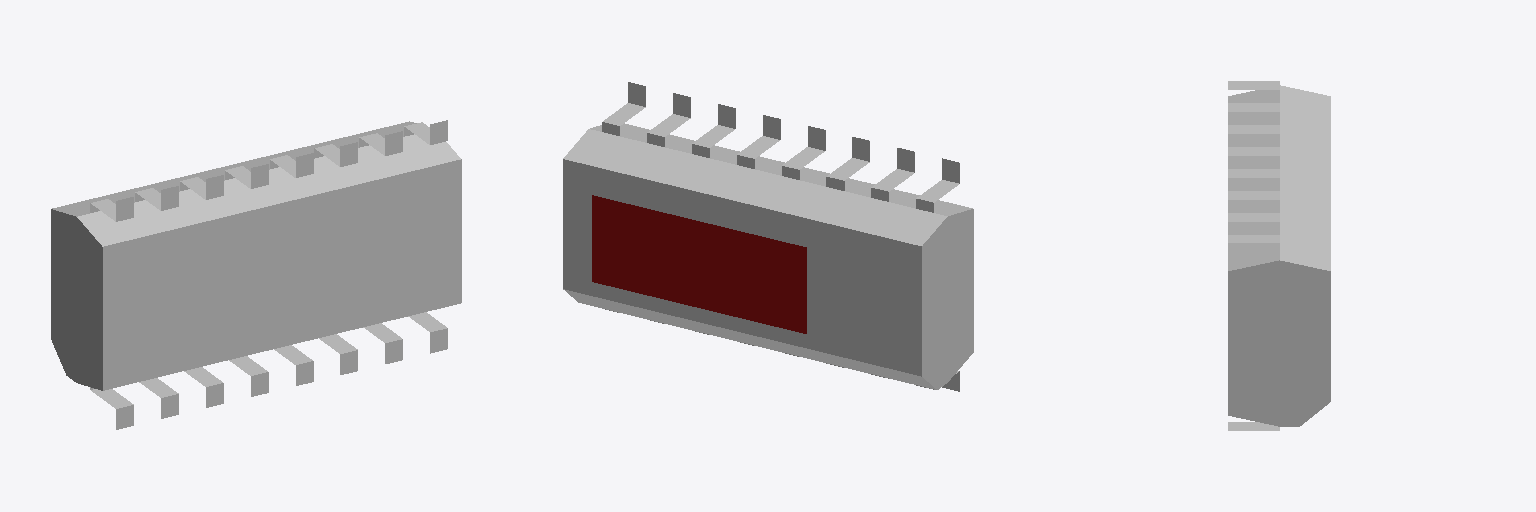
The picture shows the model from 3 angles: view 1: azimuth 30°, elevation 25°; view 2: azimuth 150°, elevation 25°; view 3: azimuth 270°, elevation 25°; orthographic projection.
Parts seen in each view (by area): view 1: ShapeIndexedFaceSet.001_ShapeIndexedFaceSet.002, ShapeIndexedFaceSet.009_ShapeIndexedFaceSet.010, ShapeIndexedFaceSet.005_ShapeIndexedFaceSet.006, ShapeIndexedFaceSet.004_ShapeIndexedFaceSet.005, ShapeIndexedFaceSet.003_ShapeIndexedFaceSet.004, ShapeIndexedFaceSet.002_ShapeIndexedFaceSet.003, ShapeIndexedFaceSet.008_ShapeIndexedFaceSet.009, ShapeIndexedFaceSet.006_ShapeIndexedFaceSet.007, ShapeIndexedFaceSet.007_ShapeIndexedFaceSet.008, ShapeIndexedFaceSet.012_ShapeIndexedFaceSet.013, ShapeIndexedFaceSet.013_ShapeIndexedFaceSet.014, ShapeIndexedFaceSet.011_ShapeIndexedFaceSet.012 (+5 smaller); view 2: ShapeIndexedFaceSet.001_ShapeIndexedFaceSet.002, ShapeIndexedFaceSet_ShapeIndexedFaceSet.001, ShapeIndexedFaceSet.012_ShapeIndexedFaceSet.013, ShapeIndexedFaceSet.010_ShapeIndexedFaceSet.011, ShapeIndexedFaceSet.013_ShapeIndexedFaceSet.014, ShapeIndexedFaceSet.011_ShapeIndexedFaceSet.012, ShapeIndexedFaceSet.017_ShapeIndexedFaceSet, ShapeIndexedFaceSet.015_ShapeIndexedFaceSet.016, ShapeIndexedFaceSet.014_ShapeIndexedFaceSet.015, ShapeIndexedFaceSet.016_ShapeIndexedFaceSet.017; view 3: ShapeIndexedFaceSet.001_ShapeIndexedFaceSet.002.
Boxes of the visible parts, x1,y1,x2,y2 form: ShapeIndexedFaceSet.001_ShapeIndexedFaceSet.002: [51, 121, 461, 390]; ShapeIndexedFaceSet.009_ShapeIndexedFaceSet.010: [90, 387, 133, 429]; ShapeIndexedFaceSet.005_ShapeIndexedFaceSet.006: [408, 312, 447, 353]; ShapeIndexedFaceSet.004_ShapeIndexedFaceSet.005: [363, 323, 402, 363]; ShapeIndexedFaceSet.003_ShapeIndexedFaceSet.004: [319, 334, 357, 374]; ShapeIndexedFaceSet.002_ShapeIndexedFaceSet.003: [274, 345, 313, 385]; ShapeIndexedFaceSet.008_ShapeIndexedFaceSet.009: [139, 378, 178, 418]; ShapeIndexedFaceSet.006_ShapeIndexedFaceSet.007: [229, 356, 268, 396]; ShapeIndexedFaceSet.007_ShapeIndexedFaceSet.008: [184, 367, 223, 407]; ShapeIndexedFaceSet.012_ShapeIndexedFaceSet.013: [180, 175, 223, 199]; ShapeIndexedFaceSet.013_ShapeIndexedFaceSet.014: [225, 164, 268, 188]; ShapeIndexedFaceSet.011_ShapeIndexedFaceSet.012: [135, 186, 178, 210]; ShapeIndexedFaceSet.001_ShapeIndexedFaceSet.002: [563, 123, 973, 389]; ShapeIndexedFaceSet_ShapeIndexedFaceSet.001: [592, 195, 806, 333]; ShapeIndexedFaceSet.012_ShapeIndexedFaceSet.013: [826, 137, 869, 190]; ShapeIndexedFaceSet.010_ShapeIndexedFaceSet.011: [916, 158, 959, 212]; ShapeIndexedFaceSet.013_ShapeIndexedFaceSet.014: [782, 126, 825, 179]; ShapeIndexedFaceSet.011_ShapeIndexedFaceSet.012: [871, 148, 914, 201]; ShapeIndexedFaceSet.017_ShapeIndexedFaceSet: [737, 115, 780, 168]; ShapeIndexedFaceSet.015_ShapeIndexedFaceSet.016: [647, 93, 690, 146]; ShapeIndexedFaceSet.014_ShapeIndexedFaceSet.015: [602, 82, 645, 135]; ShapeIndexedFaceSet.016_ShapeIndexedFaceSet.017: [692, 104, 735, 157]; ShapeIndexedFaceSet.001_ShapeIndexedFaceSet.002: [1228, 85, 1330, 426].
Bounding box in the file's own units: 10.16 × 6.2 × 2.56.